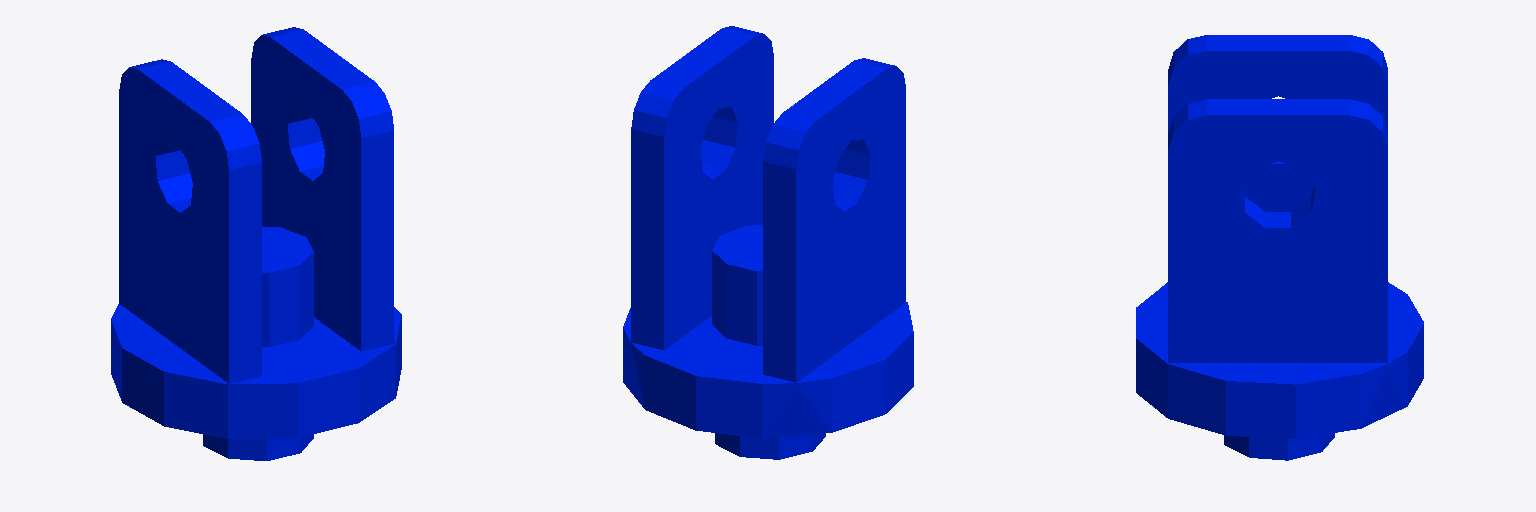
File: OJB_Solid2.obj
3 views of the same model, side by side, from view 1: azimuth 30°, elevation 25°; view 2: azimuth 150°, elevation 25°; view 3: azimuth 270°, elevation 25° (orthographic).
Parts seen in each view (by area): view 1: Solid1:1; view 2: Solid1:1; view 3: Solid1:1.
Boxes of the visible parts, x1,y1,x2,y2 form: Solid1:1: [111, 27, 401, 460]; Solid1:1: [623, 26, 913, 459]; Solid1:1: [1136, 35, 1423, 460].
Bounding box in the file's own units: 15.26 × 20.92 × 15.14.